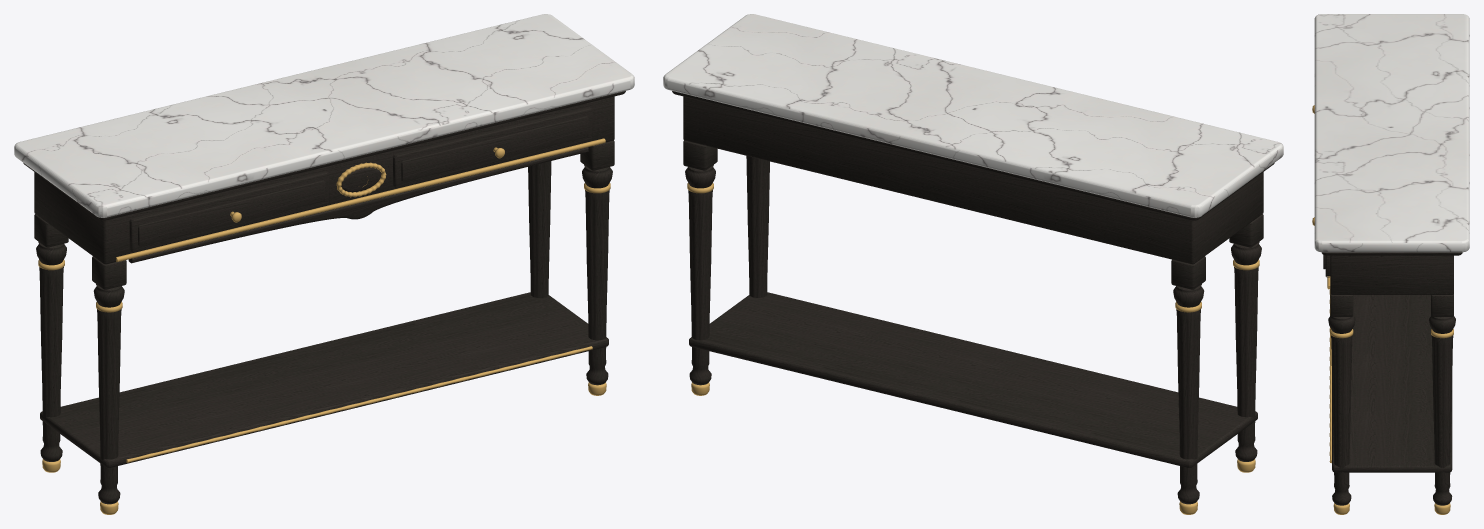
Rendered from console-140.glb.
3 views of the same model, side by side, from view 1: azimuth 30°, elevation 25°; view 2: azimuth 150°, elevation 25°; view 3: azimuth 270°, elevation 25° (orthographic). The views are drawn at different scales.
Bounding box in the file's own units: 1.4 × 0.8 × 0.406.
Materials: 3 (2 with a texture image).
